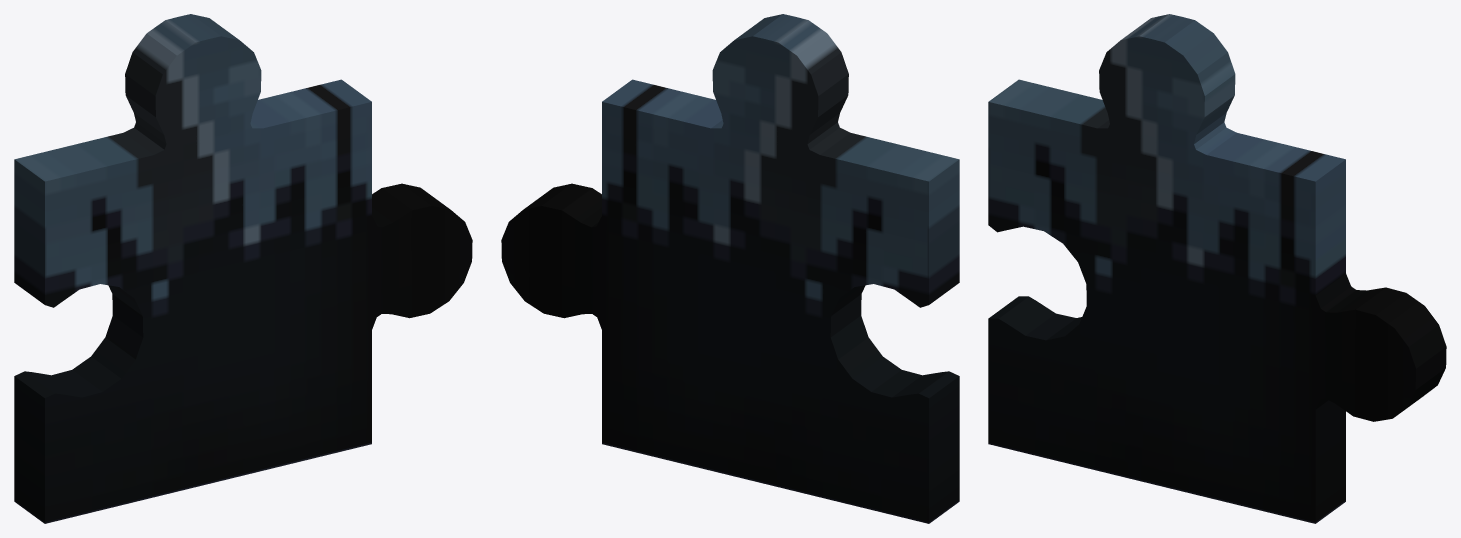
File: Pieces_19_003.fbx
3 renders of one model, left to right at view 1: azimuth 30°, elevation 25°; view 2: azimuth 150°, elevation 25°; view 3: azimuth 330°, elevation 25°, orthographic.
Visible parts, largest first — view 1: Pieces 19.003; view 2: Pieces 19.003; view 3: Pieces 19.003.
Part boxes in pixels (bbox=[...]): Pieces 19.003: bbox=[14, 14, 472, 523]; Pieces 19.003: bbox=[501, 14, 959, 523]; Pieces 19.003: bbox=[988, 14, 1446, 523].
Bounding box in the file's own units: 105 × 105 × 12.98.
